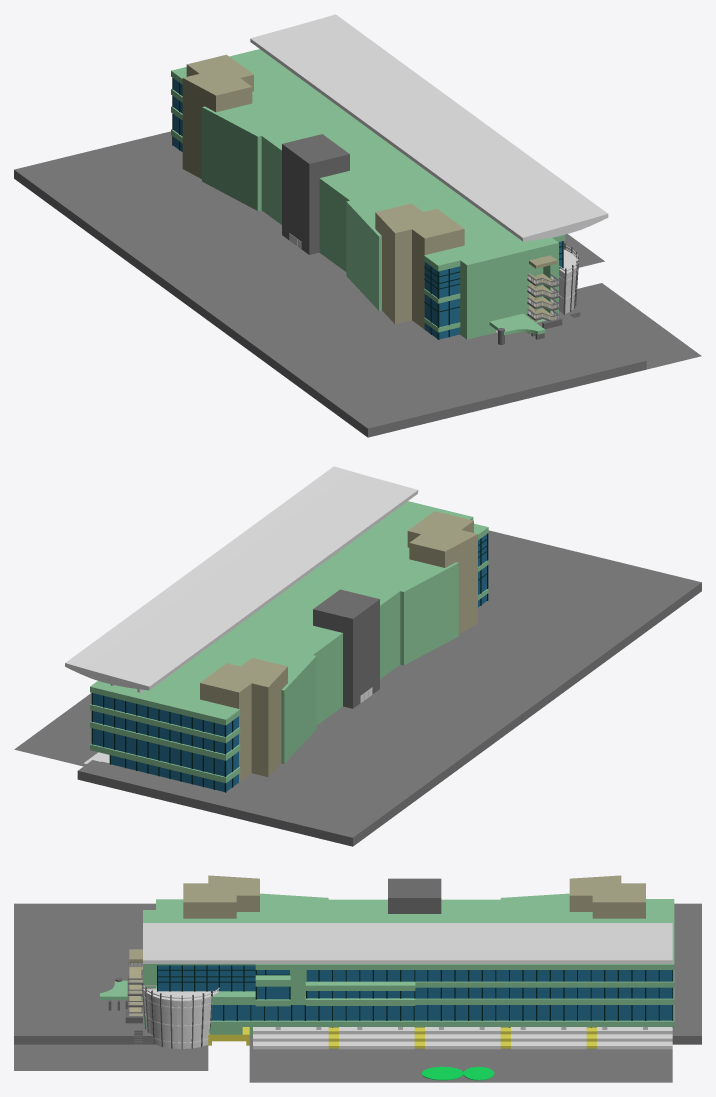
File: viewing-fix.fbx
The picture shows the model from 3 angles, top to bottom: view 1: azimuth 30°, elevation 25°; view 2: azimuth 150°, elevation 25°; view 3: azimuth 270°, elevation 25°; orthographic projection. The views are drawn at different scales.
Parts seen in each view (by area): view 1: Box001, Object005, Box003, Box006, Box005, Box008, Box017, Plane002, Box002, Cylinder001, Box004, Box057 (+1 smaller); view 2: Box001, Object005, Box003, Box002, Box017, Box008, Box006, Plane001, sash_1; view 3: Object005, Box003, Box001, Box002, Plane001, Plane002, Cylinder001, Box017, Box006, sash_1, Box008, Line005 (+13 smaller).
Part boxes in pixels (x1=…): Box001: x1=14, y1=131, x2=646, y2=437; Object005: x1=171, y1=49, x2=565, y2=332; Box003: x1=250, y1=14, x2=608, y2=241; Box006: x1=375, y1=203, x2=464, y2=329; Box005: x1=460, y1=238, x2=558, y2=339; Box008: x1=282, y1=134, x2=349, y2=254; Box017: x1=182, y1=54, x2=253, y2=178; Plane002: x1=576, y1=283, x2=701, y2=369; Box002: x1=173, y1=78, x2=562, y2=339; Cylinder001: x1=559, y1=249, x2=577, y2=313; Box004: x1=489, y1=313, x2=545, y2=335; Box057: x1=529, y1=272, x2=556, y2=321; Box001: x1=77, y1=530, x2=701, y2=846; Object005: x1=90, y1=506, x2=488, y2=783; Box003: x1=65, y1=466, x2=418, y2=690; Box002: x1=93, y1=534, x2=486, y2=791; Box017: x1=200, y1=658, x2=287, y2=782; Box008: x1=313, y1=589, x2=379, y2=708; Box006: x1=407, y1=511, x2=477, y2=633; Plane001: x1=14, y1=693, x2=98, y2=766; sash_1: x1=91, y1=533, x2=488, y2=792; Object005: x1=156, y1=893, x2=674, y2=1035; Box003: x1=143, y1=923, x2=672, y2=963; Box001: x1=14, y1=903, x2=701, y2=1044; Box002: x1=158, y1=965, x2=672, y2=1027; Plane001: x1=249, y1=1036, x2=672, y2=1082; Plane002: x1=14, y1=1044, x2=208, y2=1070; Cylinder001: x1=143, y1=989, x2=217, y2=1048; Box017: x1=569, y1=875, x2=645, y2=918; Box006: x1=183, y1=875, x2=259, y2=918; sash_1: x1=157, y1=965, x2=673, y2=1027; Box008: x1=388, y1=878, x2=441, y2=913; Line005: x1=253, y1=1027, x2=328, y2=1049.
Size of what is drawn, in the model's own units: 11700 by 3152 by 20000.
